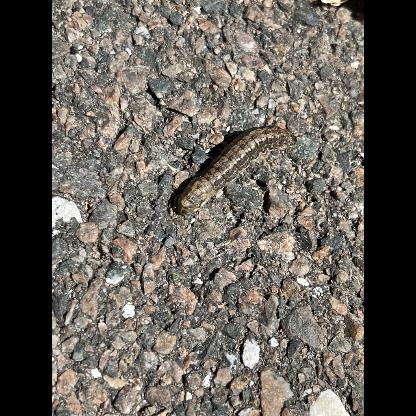Fall Armyworm Larvae: (174, 122, 300, 221)
